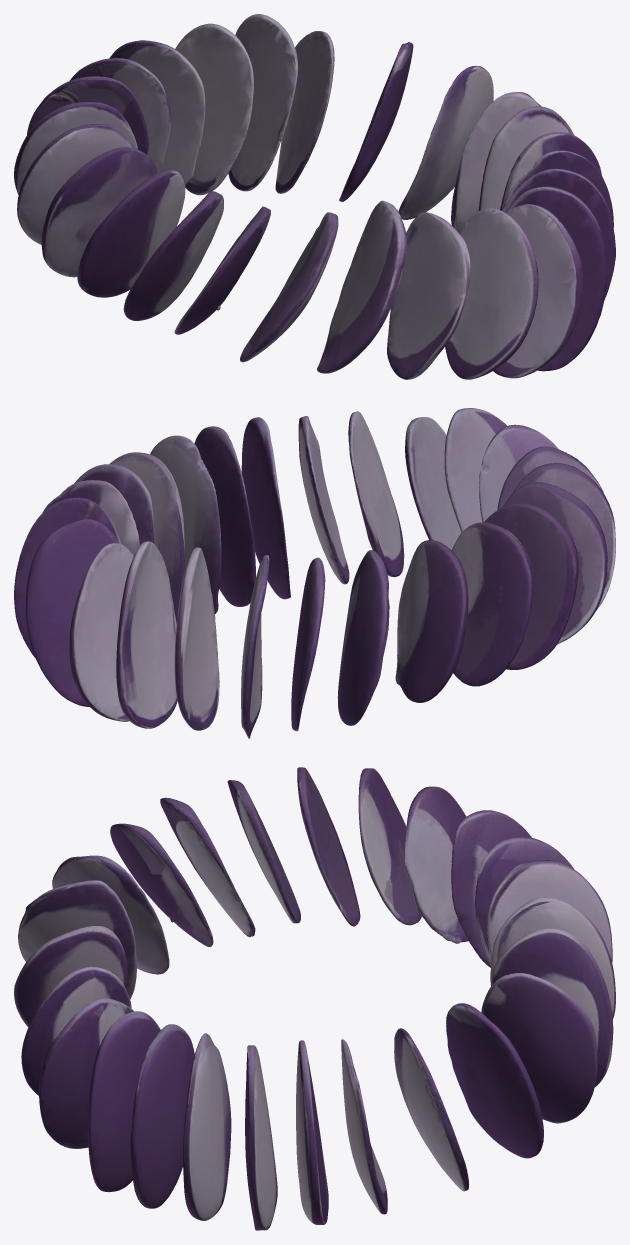
The model's file is spiral-ring-hq.glb.
3 views of the same model, one above another, from view 1: azimuth 30°, elevation 25°; view 2: azimuth 150°, elevation 25°; view 3: azimuth 270°, elevation 25° (orthographic). The views are drawn at different scales.
Parts seen in each view (by area): view 1: tripo_node_00fff819-9091-4393-93f2-61bf9943b9b6; view 2: tripo_node_00fff819-9091-4393-93f2-61bf9943b9b6; view 3: tripo_node_00fff819-9091-4393-93f2-61bf9943b9b6.
Boxes of the visible parts, x1,y1,x2,y2 form: tripo_node_00fff819-9091-4393-93f2-61bf9943b9b6: (14, 14, 615, 379); tripo_node_00fff819-9091-4393-93f2-61bf9943b9b6: (14, 408, 615, 738); tripo_node_00fff819-9091-4393-93f2-61bf9943b9b6: (14, 767, 615, 1230).
Bounding box in the file's own units: 0.9999 × 0.4367 × 0.9512.
1 material, 1 textured.
